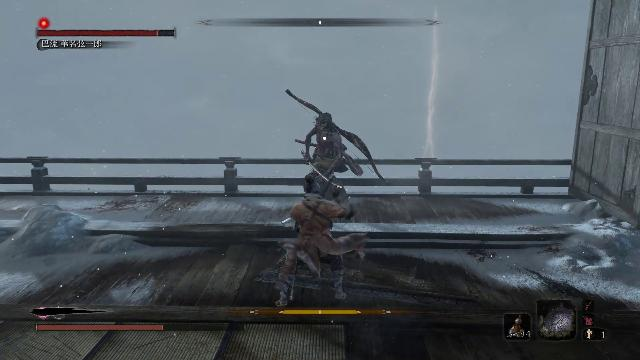sk: (272, 171, 370, 311)
